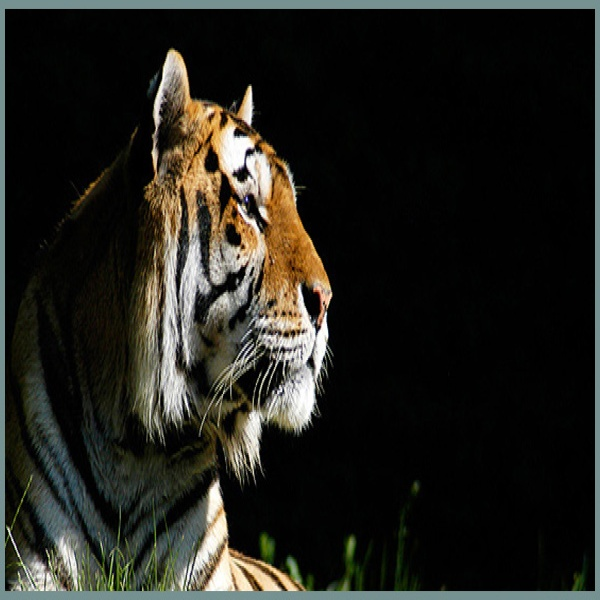Tiger: (4, 44, 339, 600)
